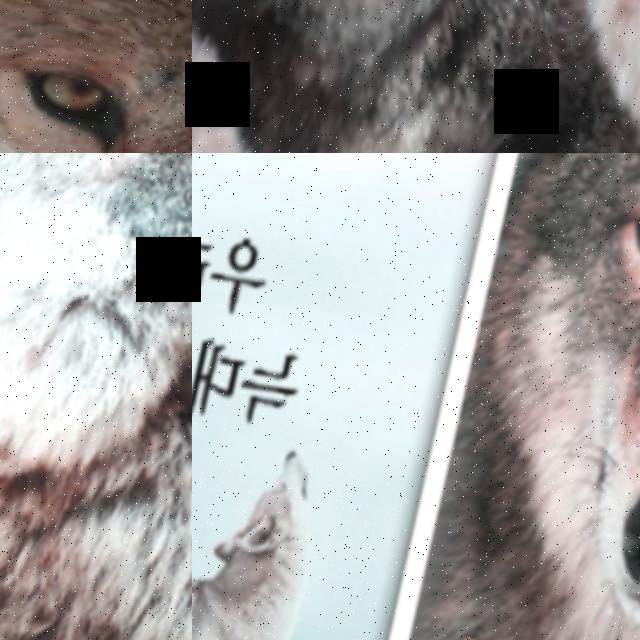wolf: (387, 153, 640, 640), (0, 153, 192, 640), (192, 0, 502, 153), (340, 0, 640, 153), (192, 407, 360, 640), (0, 0, 192, 153)
